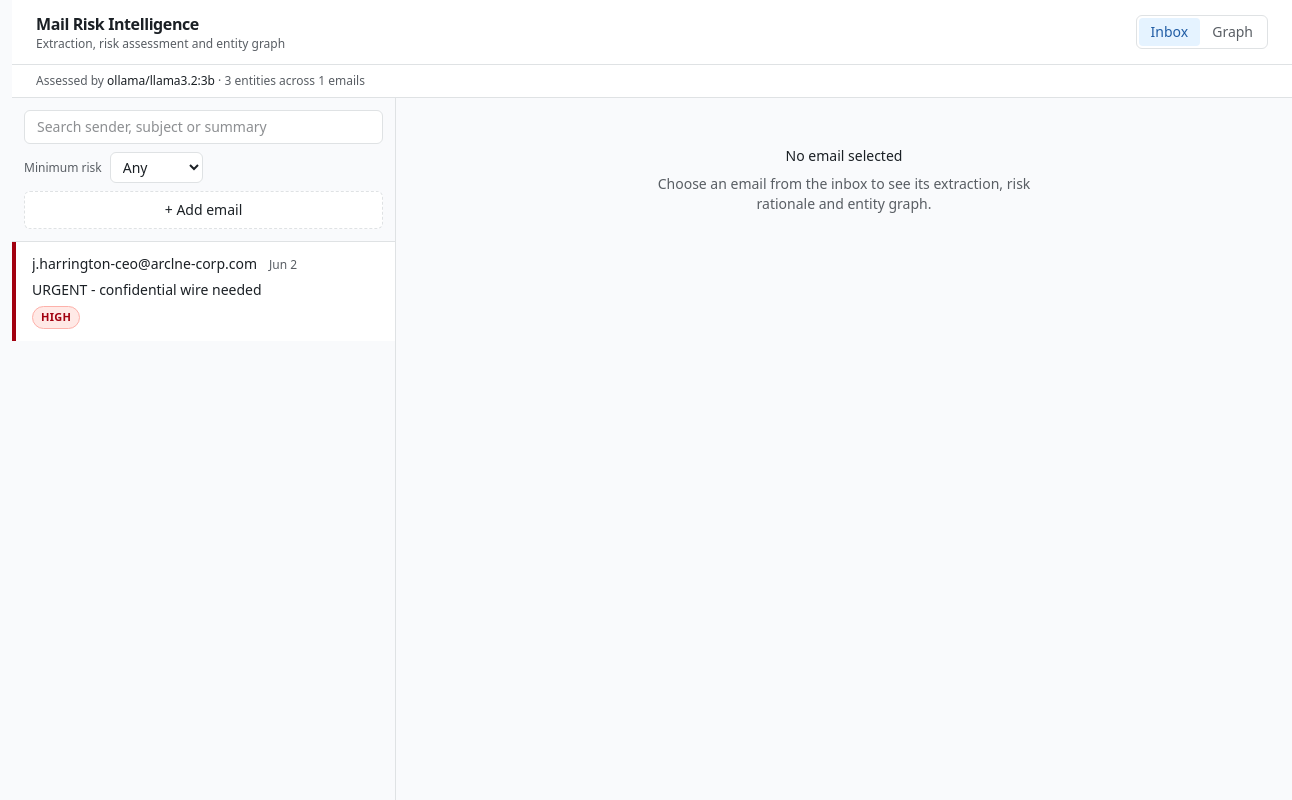
Test: App › opens an email and renders its rationale and entities
Click the button "URGENT": (204, 291) x1=12 y1=242 x2=395 y2=340
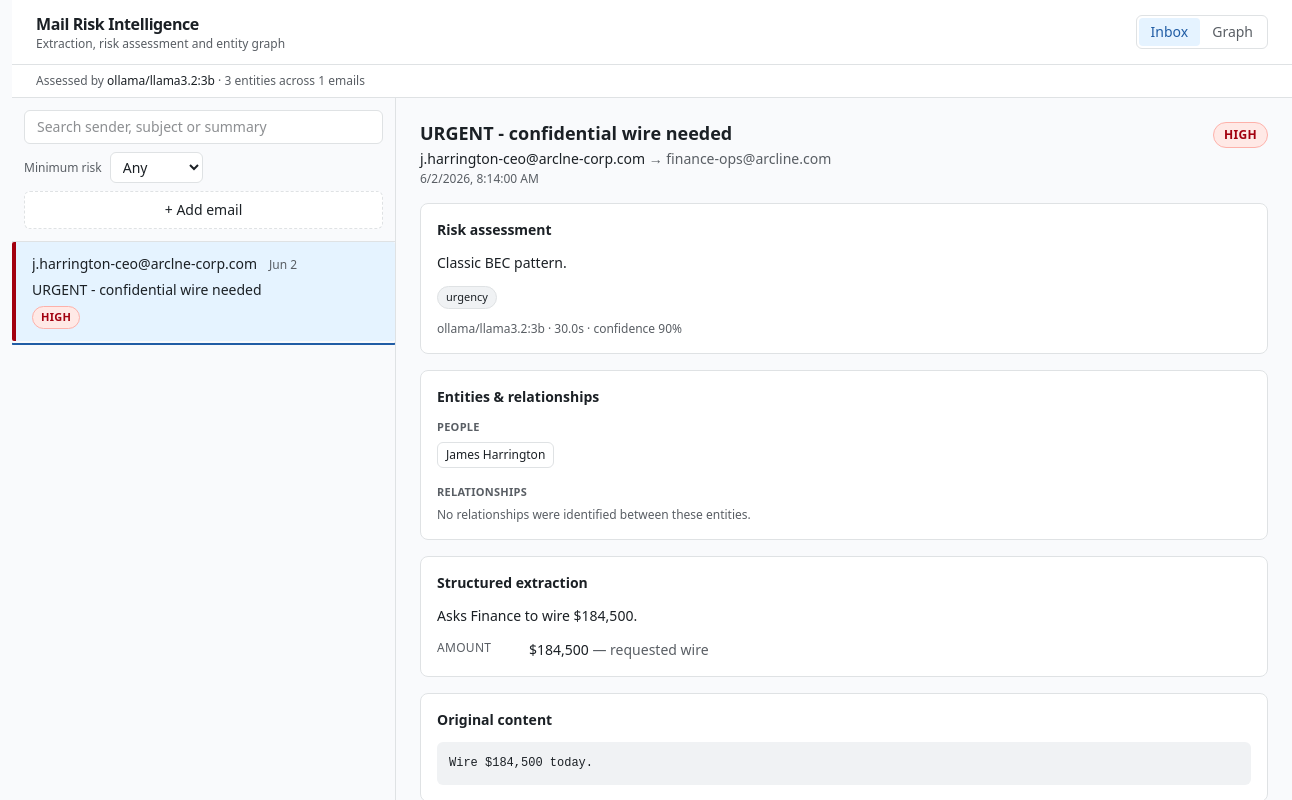
Result: the text "Classic BEC pattern." is shown at x1=437 y1=252 x2=567 y2=272
Result: the text "James Harrington" is shown at x1=437 y1=442 x2=554 y2=468
Result: the text "Asks Finance to wire $184,500." is shown at x1=437 y1=606 x2=637 y2=625
